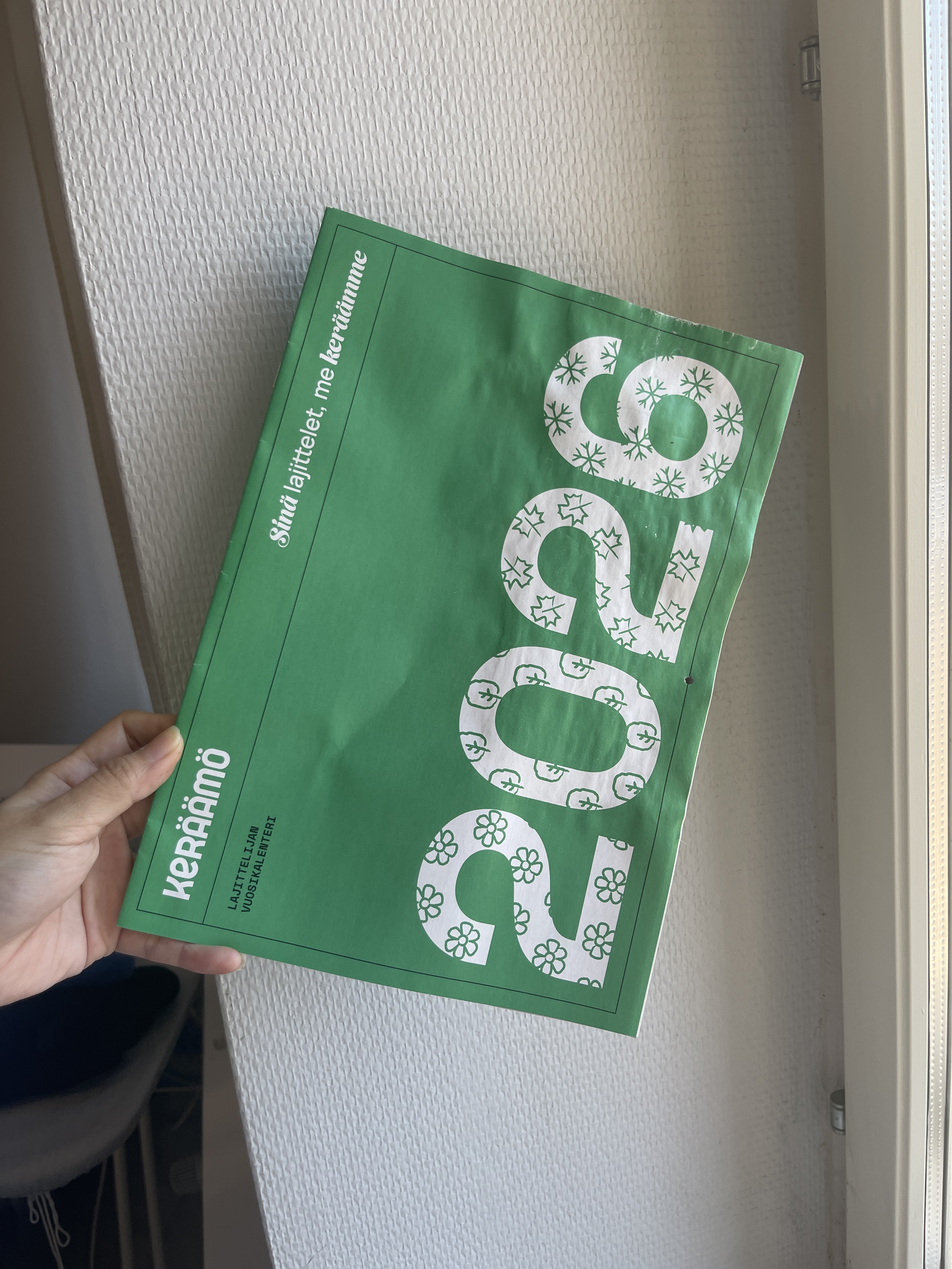paper: (111, 205, 808, 1043)
